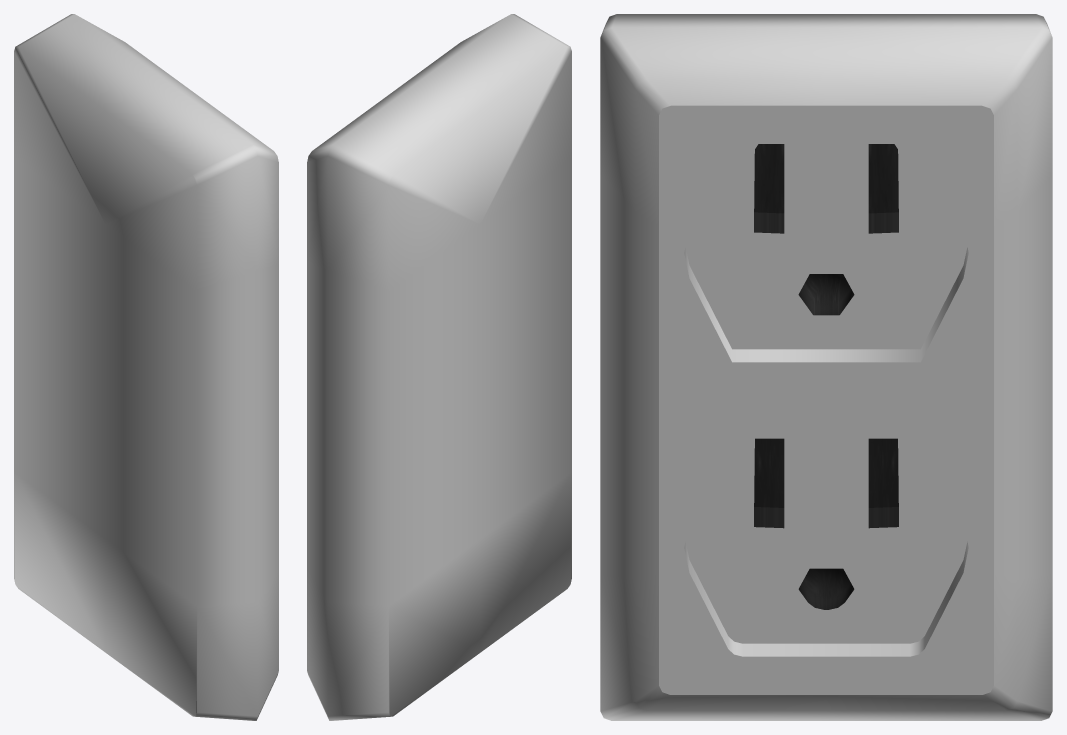
The model's file is outlet.glb.
3 renders of one model, left to right at view 1: azimuth 30°, elevation 25°; view 2: azimuth 150°, elevation 25°; view 3: azimuth 270°, elevation 25°, orthographic. The views are drawn at different scales.
Visible parts, largest first — view 1: Outlet; view 2: Outlet; view 3: Outlet.
Part boxes in pixels (left/top/right/bottom): Outlet: left=14, top=14, right=278, bottom=720; Outlet: left=307, top=14, right=571, bottom=720; Outlet: left=600, top=14, right=1052, bottom=720.
Bounding box in the file's own units: 0.0403 × 0.2163 × 0.1279.
Materials: 2 (1 with a texture image).
